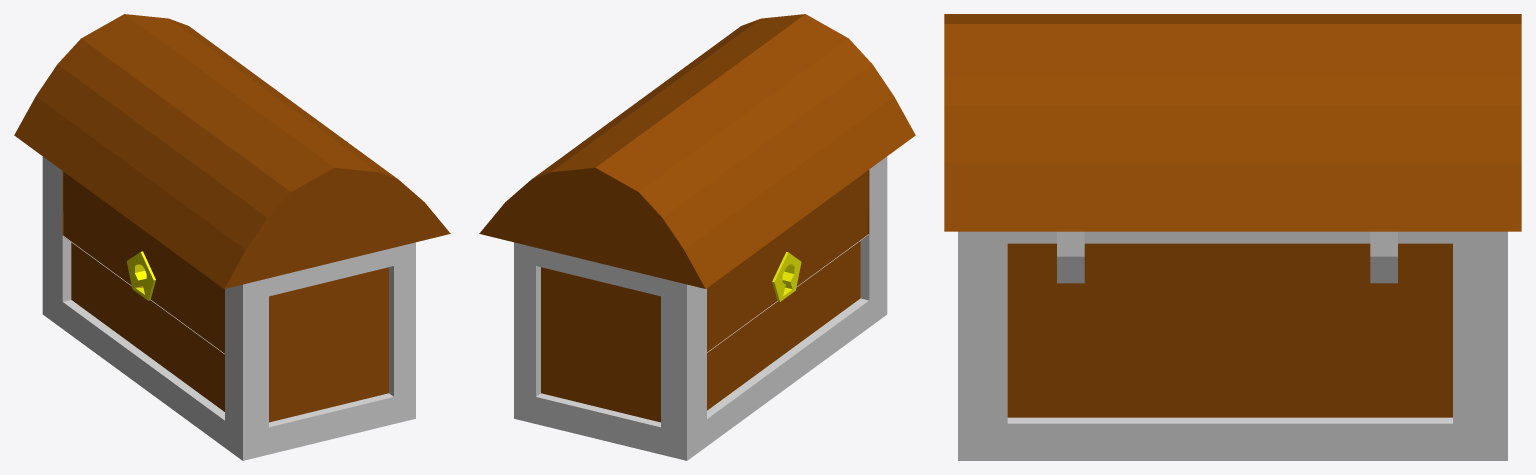
File: ChestFinal.fbx
3 renders of one model, left to right at view 1: azimuth 30°, elevation 25°; view 2: azimuth 150°, elevation 25°; view 3: azimuth 270°, elevation 25°, orthographic. The views are drawn at different scales.
Visible parts, largest first — view 1: Top, Bottom; view 2: Top, Bottom; view 3: Top, Bottom, Cube, Cube.001.
Part boxes in pixels (x1,y1,x2,y2): Top: [14, 14, 450, 354]; Bottom: [42, 156, 415, 460]; Top: [479, 14, 915, 352]; Bottom: [514, 156, 887, 460]; Top: [944, 14, 1521, 231]; Bottom: [958, 231, 1507, 460]; Cube: [1370, 231, 1397, 283]; Cube.001: [1057, 231, 1084, 283].
Bounding box in the file's own units: 262 × 305 × 420.
